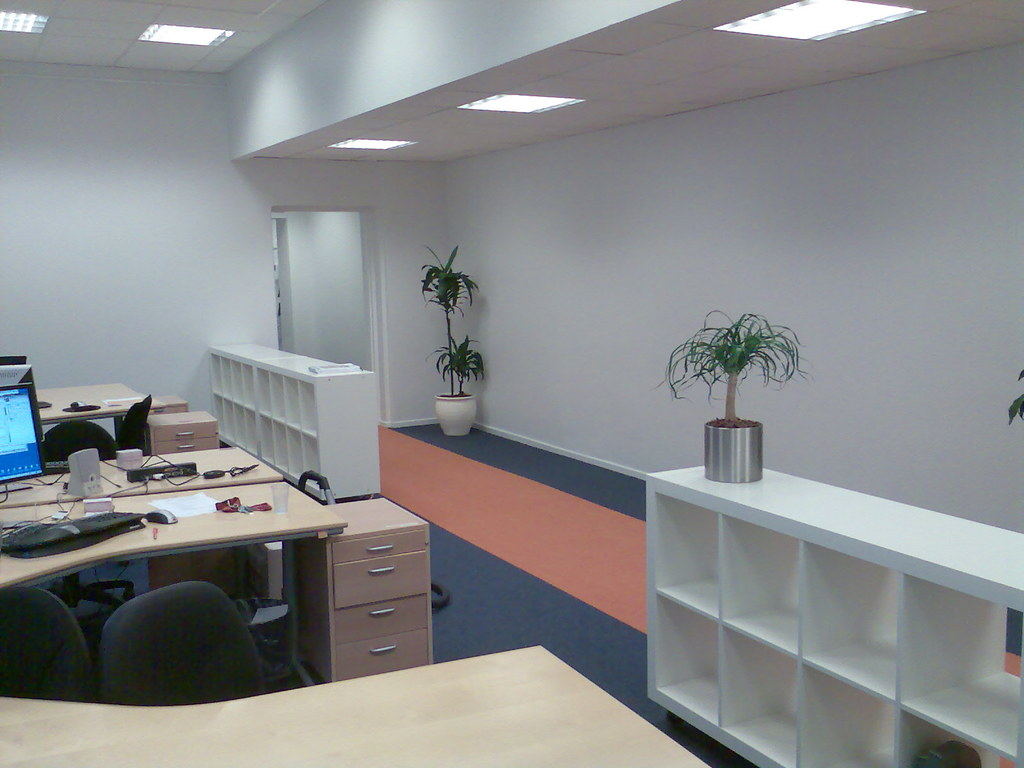cabinet door: (337, 562, 434, 605), (346, 636, 429, 672), (345, 602, 423, 629), (335, 530, 422, 553), (154, 425, 214, 443)
handle: (370, 602, 398, 628), (366, 560, 395, 585), (367, 637, 398, 658), (367, 539, 397, 551)
